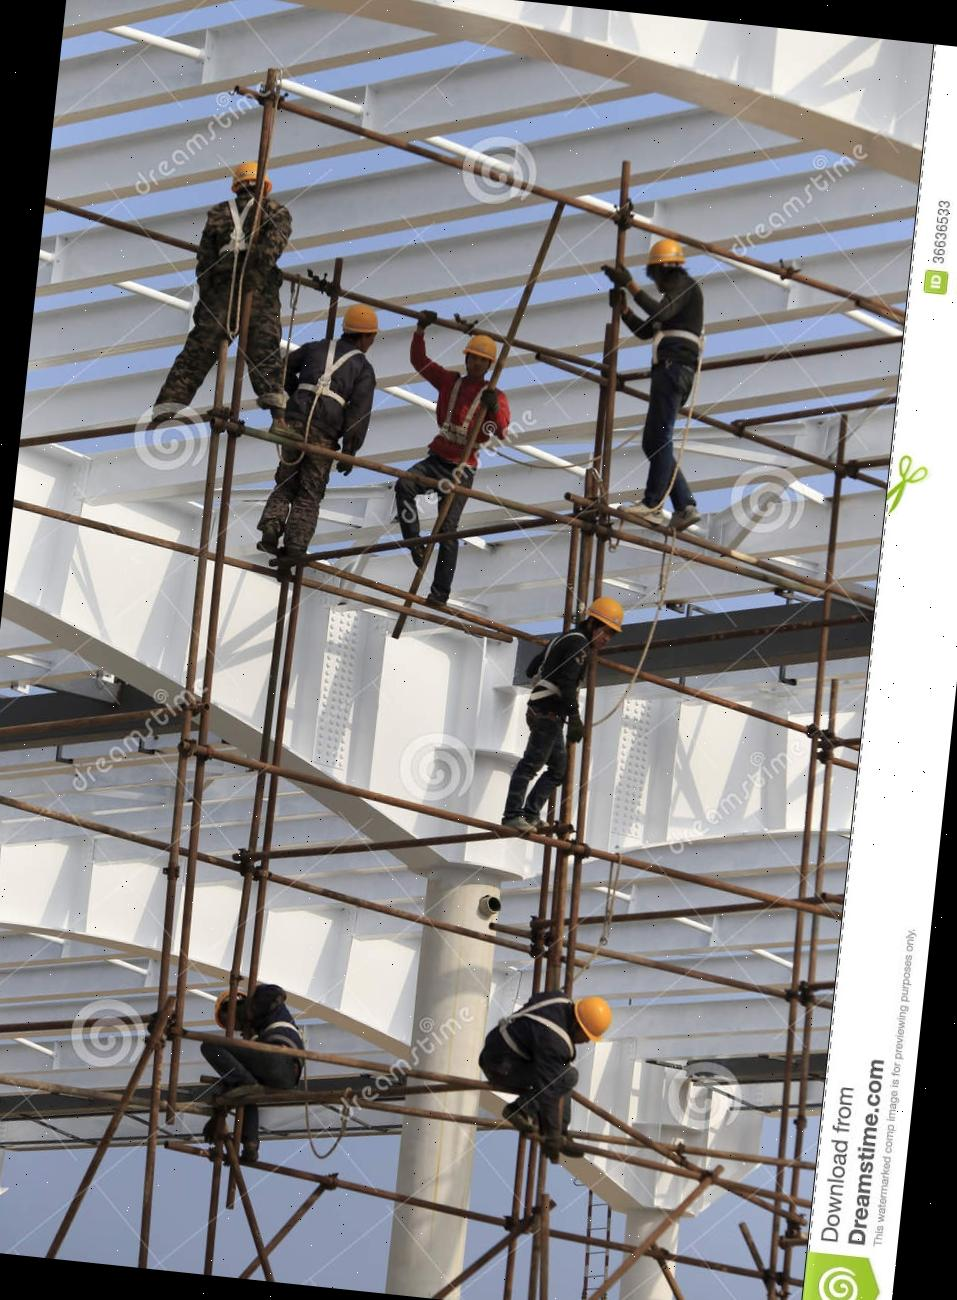helmet: (570, 990, 617, 1040), (580, 588, 631, 633), (339, 300, 385, 343), (647, 235, 690, 275), (225, 156, 274, 191), (459, 328, 504, 364), (211, 986, 247, 1030)
